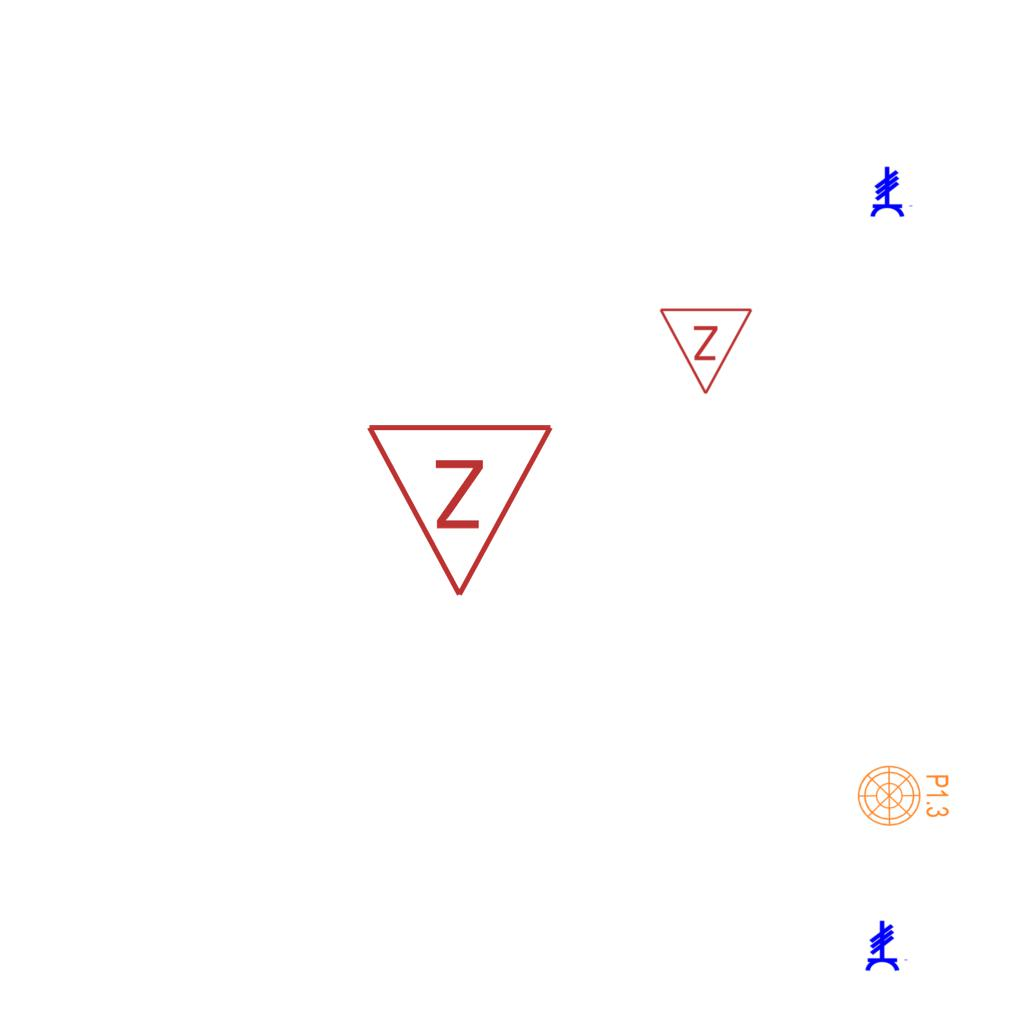Aufbaurundleuchte_LED_Treppenhaus: (856, 764, 958, 833)
CEE_Drehstrom_Steckdose_16_32_A: (864, 920, 909, 972), (869, 166, 914, 218)
Zimmersignalleuchte: (364, 410, 560, 610), (658, 301, 756, 401)
